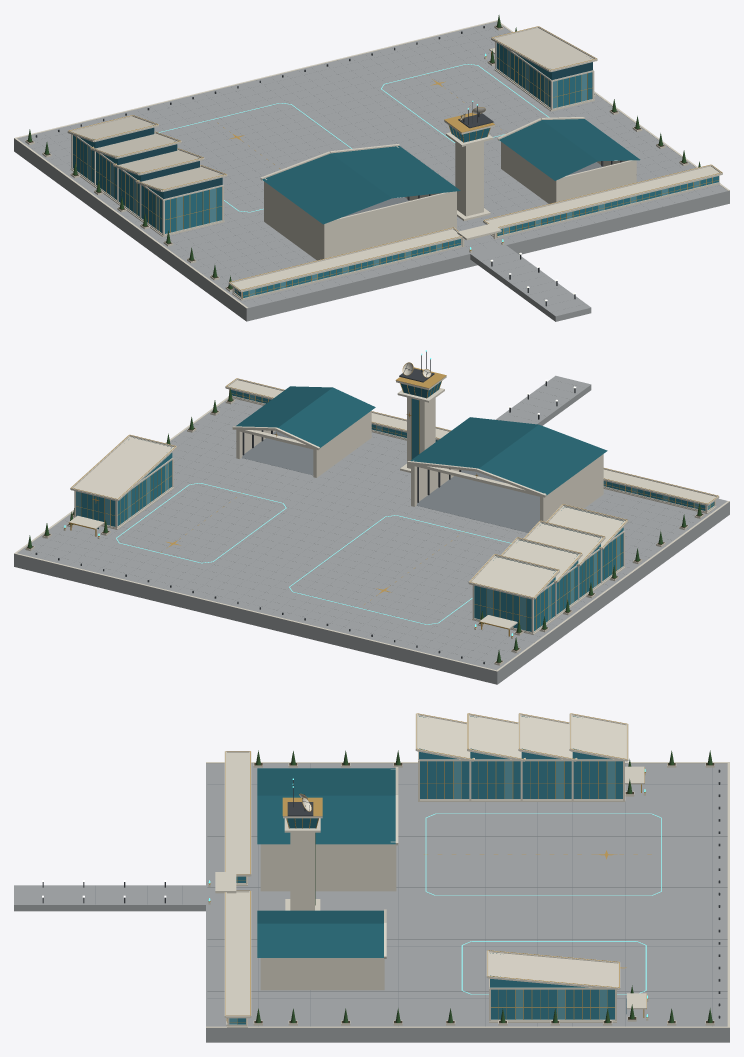
Rendered from Horizon.glb.
The picture shows the model from 3 angles, top to bottom: view 1: azimuth 30°, elevation 25°; view 2: azimuth 150°, elevation 25°; view 3: azimuth 270°, elevation 25°; orthographic projection. The views are drawn at different scales.
Visible parts, largest first — view 1: Paving.001, Ivory.001, Teal.001, Glass.001, Gold.001, Glass Highlight.001, Glass Dark.001, Leaves.001, Joint.001, Metal.001, Light.001; view 2: Paving.001, Ivory.001, Teal.001, Glass.001, Joint.001, Gold.001, Glass Highlight.001, Light.001, Metal.001, Leaves.001; view 3: Paving.001, Ivory.001, Teal.001, Glass.001, Gold.001, Joint.001, Glass Highlight.001, Light.001, Leaves.001, Metal.001.
Part boxes in pixels (left/top/right/bottom): Paving.001: left=14, top=21, right=729, bottom=321; Ivory.001: left=14, top=20, right=729, bottom=308; Teal.001: left=262, top=119, right=640, bottom=224; Glass.001: left=73, top=43, right=718, bottom=297; Gold.001: left=68, top=26, right=722, bottom=298; Glass Highlight.001: left=88, top=50, right=699, bottom=296; Glass Dark.001: left=95, top=62, right=592, bottom=198; Leaves.001: left=27, top=15, right=700, bottom=288; Joint.001: left=34, top=29, right=695, bottom=299; Metal.001: left=35, top=26, right=622, bottom=306; Light.001: left=158, top=53, right=549, bottom=249; Paving.001: left=14, top=375, right=729, bottom=684; Ivory.001: left=14, top=362, right=729, bottom=671; Teal.001: left=236, top=386, right=607, bottom=494; Glass.001: left=81, top=381, right=714, bottom=631; Joint.001: left=34, top=429, right=671, bottom=662; Gold.001: left=64, top=362, right=718, bottom=636; Glass Highlight.001: left=76, top=394, right=710, bottom=630; Light.001: left=64, top=350, right=512, bottom=635; Metal.001: left=35, top=351, right=575, bottom=664; Leaves.001: left=27, top=388, right=701, bottom=662; Paving.001: left=14, top=763, right=729, bottom=1042; Ivory.001: left=206, top=713, right=729, bottom=1027; Teal.001: left=257, top=768, right=395, bottom=957; Glass.001: left=237, top=716, right=622, bottom=1024; Gold.001: left=208, top=713, right=651, bottom=1024; Joint.001: left=95, top=763, right=727, bottom=1026; Glass Highlight.001: left=229, top=761, right=615, bottom=1024; Light.001: left=208, top=769, right=661, bottom=1017; Leaves.001: left=256, top=750, right=712, bottom=1023; Metal.001: left=42, top=769, right=720, bottom=1018.
Size of the model in its own units: 542 by 136 by 615.
